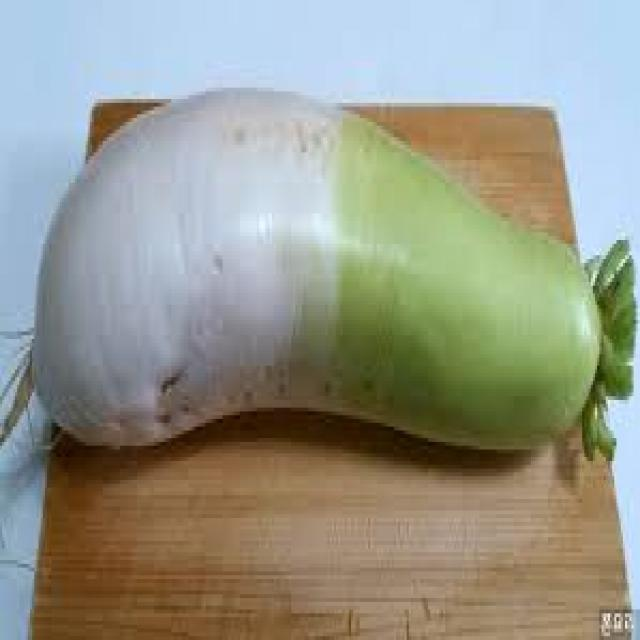raddish: (36, 91, 601, 448)
